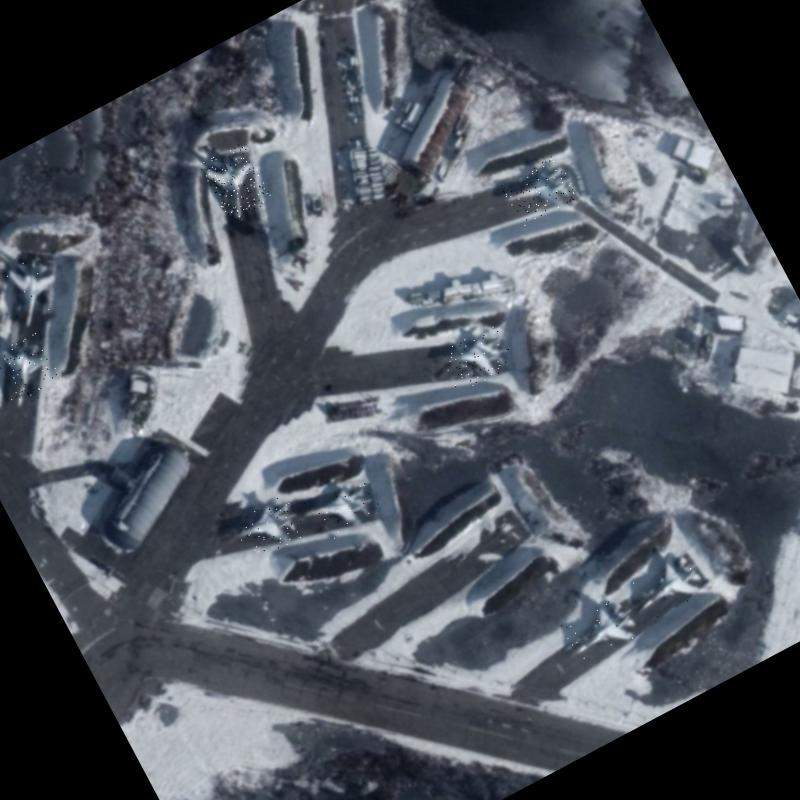A1: (198, 141, 274, 224), (299, 472, 384, 546), (498, 153, 579, 227), (0, 246, 72, 327), (438, 322, 516, 394), (230, 490, 308, 562), (0, 329, 64, 409)
A19: (622, 542, 712, 624), (559, 592, 645, 666)
